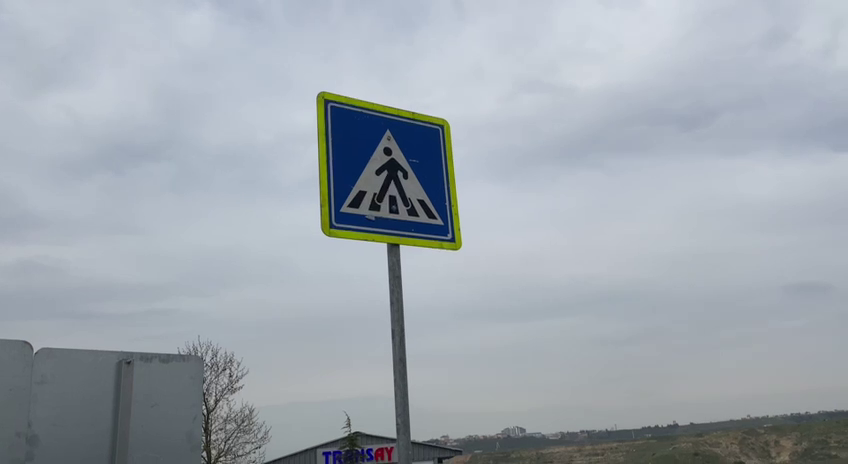pedestrianCrossing: (313, 87, 463, 254)
